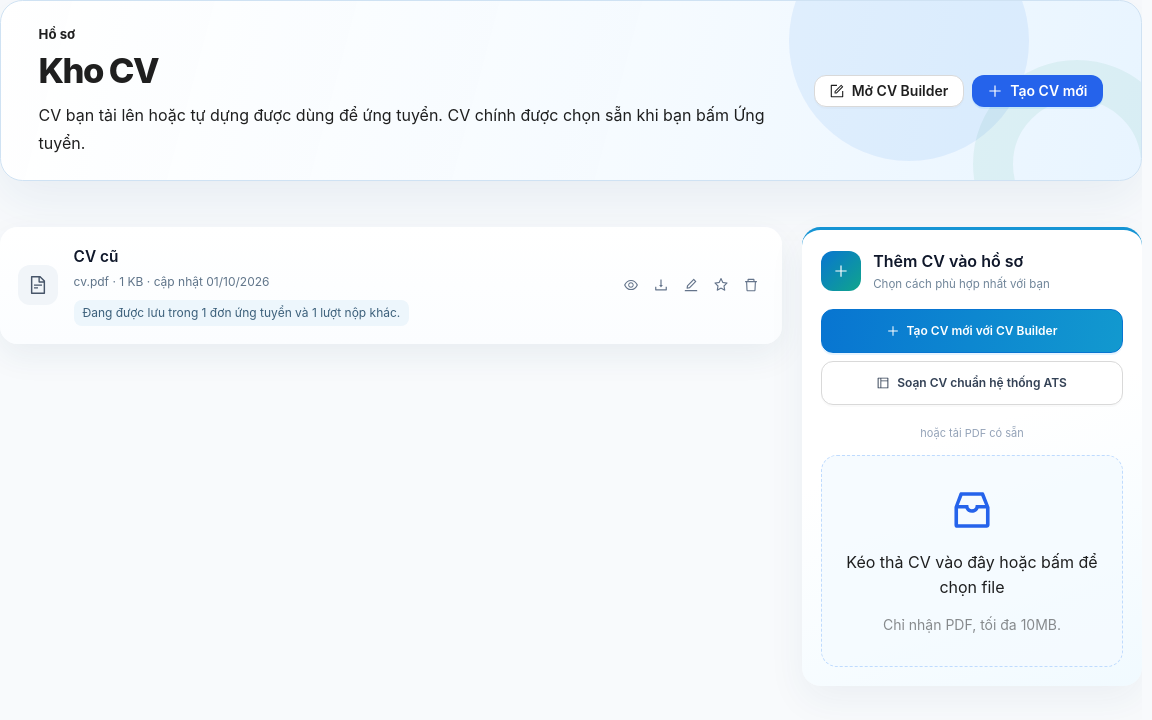
CandidateCvsPage › explains referenced CV retention before deletion
Expected: the text "Đang được lưu trong 1 đơn ứng tuyển và 1 lượt nộp khác." is shown, [74, 300, 409, 326]
Click the button named "Gỡ CV cũ khỏi kho". click: (751, 286)
box: [738, 272, 764, 298]
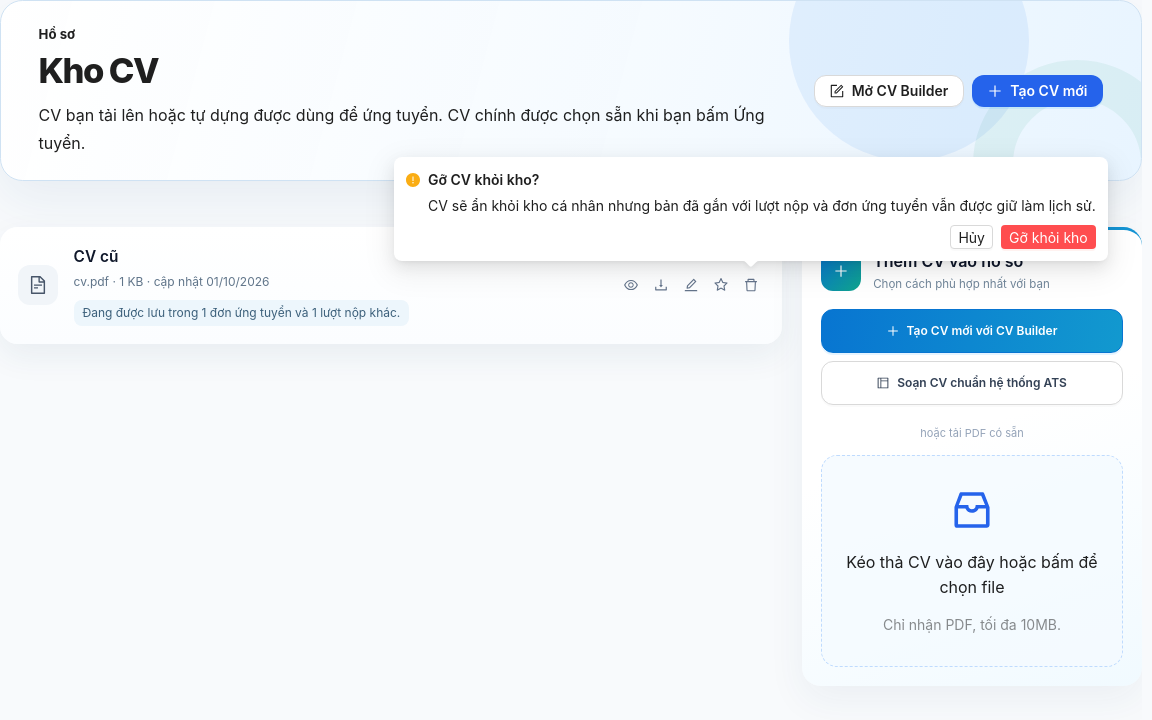
Expected: the text "bản đã gắn với lượt nộp và đơn ứng tuyển vẫn được giữ" is shown, [428, 197, 1096, 214]
